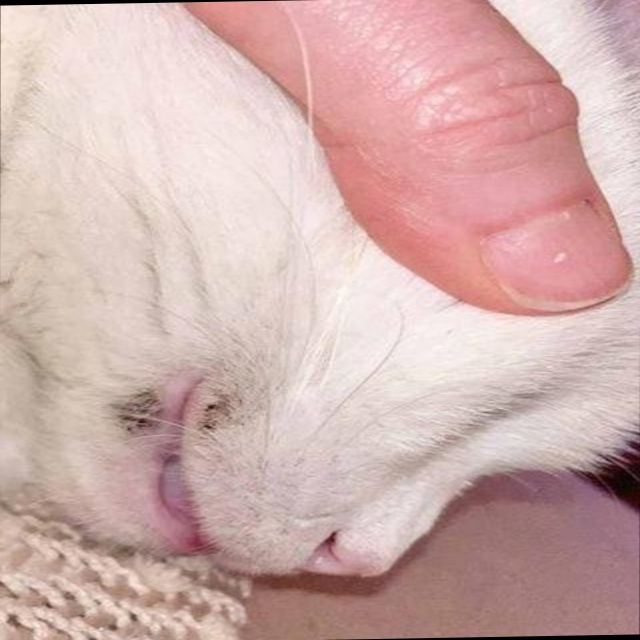acne: (186, 382, 262, 435), (103, 390, 173, 437)
